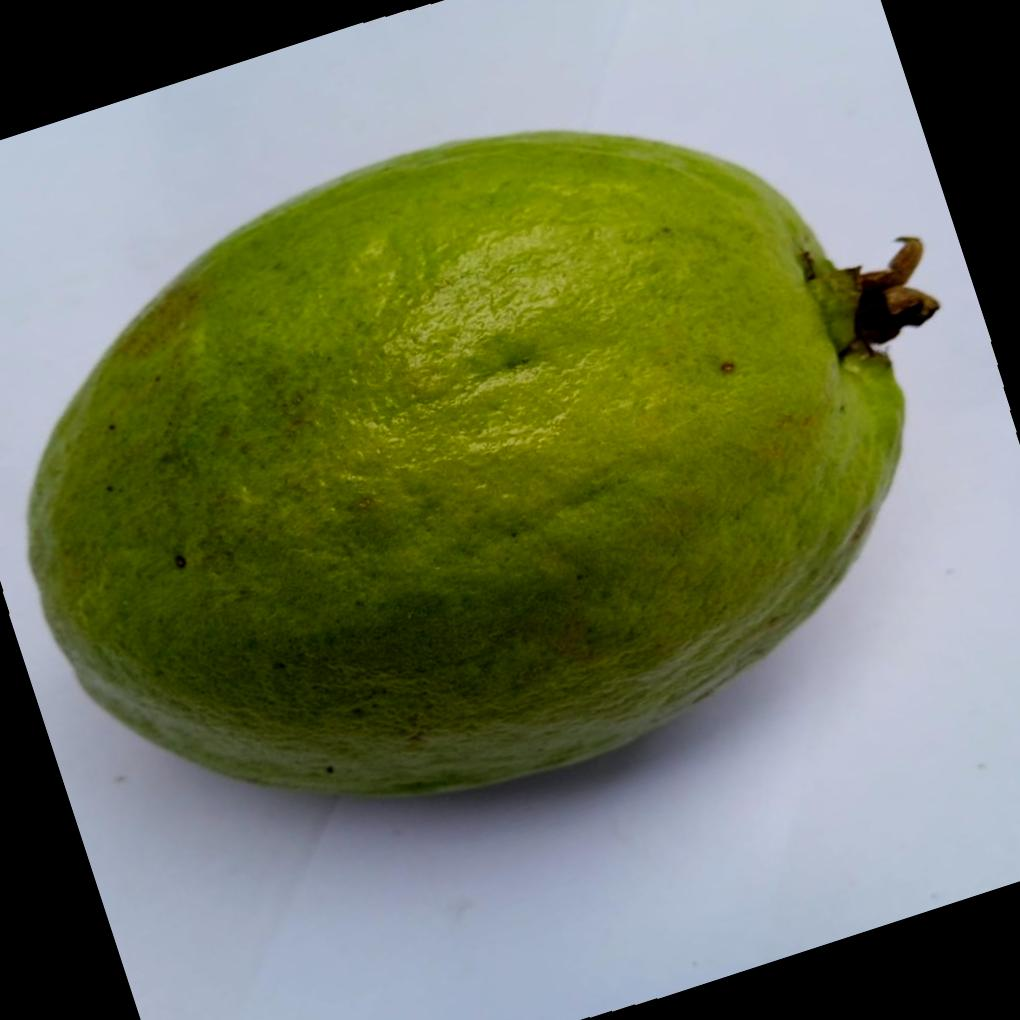FreshGuava: (21, 129, 934, 800)
